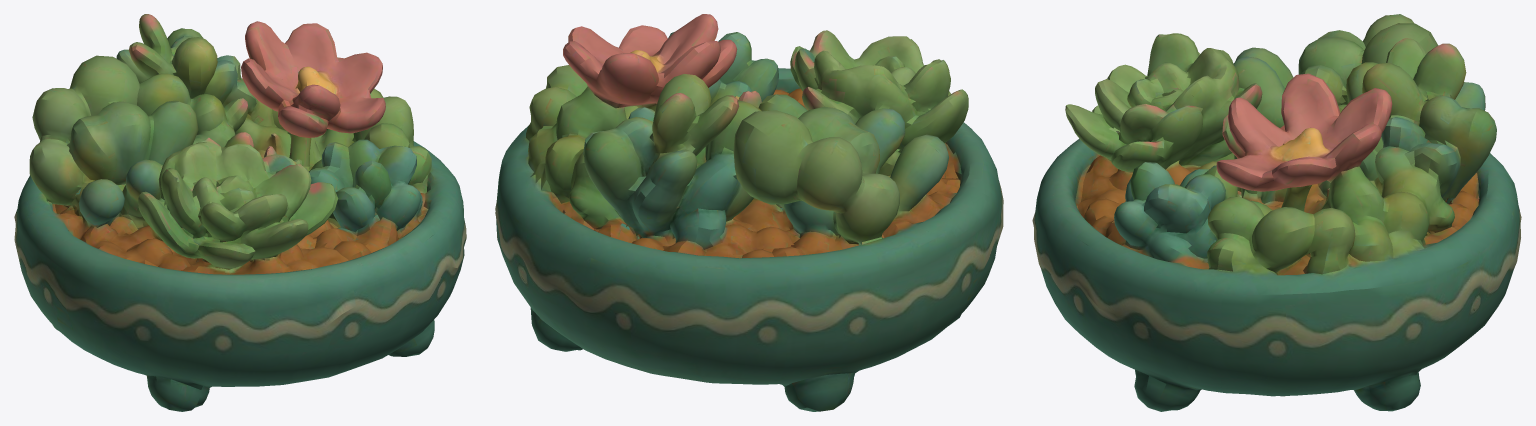
File: Meshy_AI_model.glb
3 views of the same model, side by side, from view 1: azimuth 30°, elevation 25°; view 2: azimuth 150°, elevation 25°; view 3: azimuth 270°, elevation 25° (orthographic). The views are drawn at different scales.
Visible parts, largest first — view 1: Mesh0; view 2: Mesh0; view 3: Mesh0.
Boxes of the visible parts, left/top/right/bottom form: Mesh0: left=14, top=14, right=466, bottom=411; Mesh0: left=495, top=14, right=1003, bottom=411; Mesh0: left=1032, top=14, right=1521, bottom=411.
Bounding box in the file's own units: 1.88 × 1.25 × 1.88.
1 material, 1 textured.
